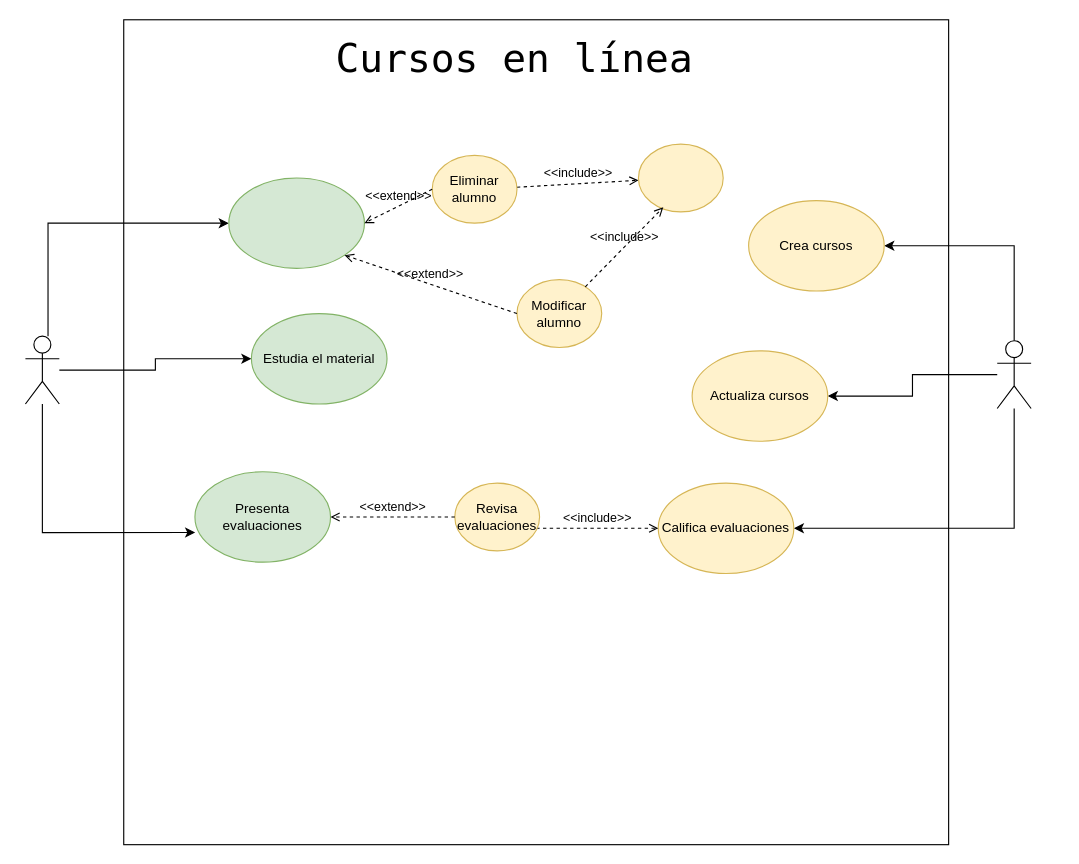
The diagram is 1079 pixels wide and 864 high, and some of its shapes have lost their labels. The centre of each missing label's shape, as x and y in pixels:
Administrador: the point at 1013,374
Base de datos: the point at 680,177
Cliente: the point at 41,369
Se inscribe en un curso: the point at 296,222
